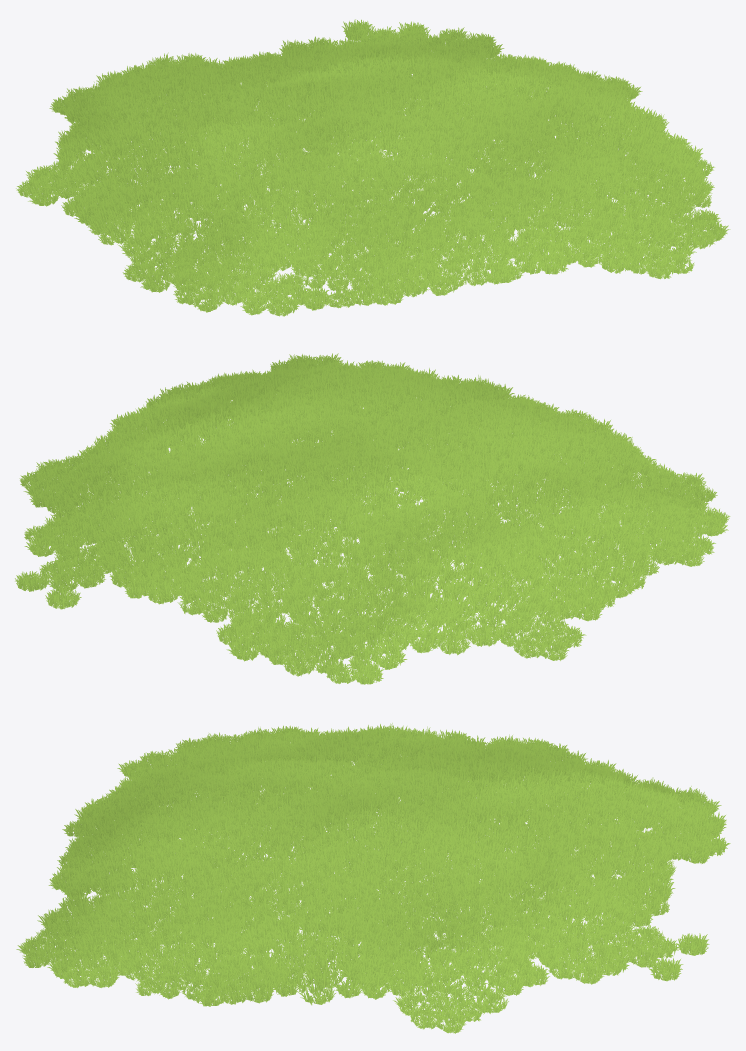
File: SM_Env_Grass_Large_01.glb
The picture shows the model from 3 angles, top to bottom: view 1: azimuth 30°, elevation 25°; view 2: azimuth 150°, elevation 25°; view 3: azimuth 270°, elevation 25°; orthographic projection. The views are drawn at different scales.
Visible parts, largest first — view 1: SM_Env_Grass_Large_01; view 2: SM_Env_Grass_Large_01; view 3: SM_Env_Grass_Large_01.
Part boxes in pixels (x1,y1,x2,y2): SM_Env_Grass_Large_01: (16,19,730,316); SM_Env_Grass_Large_01: (15,353,730,684); SM_Env_Grass_Large_01: (16,723,730,1033).
Size of the model in its own units: 33.84 by 3.92 by 34.32.
Materials: 1 (1 with a texture image).
